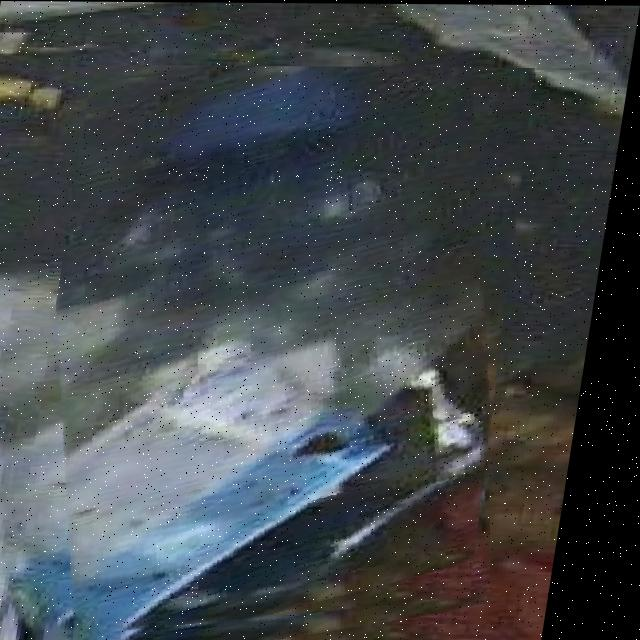plasticbottle: (23, 64, 552, 640)
